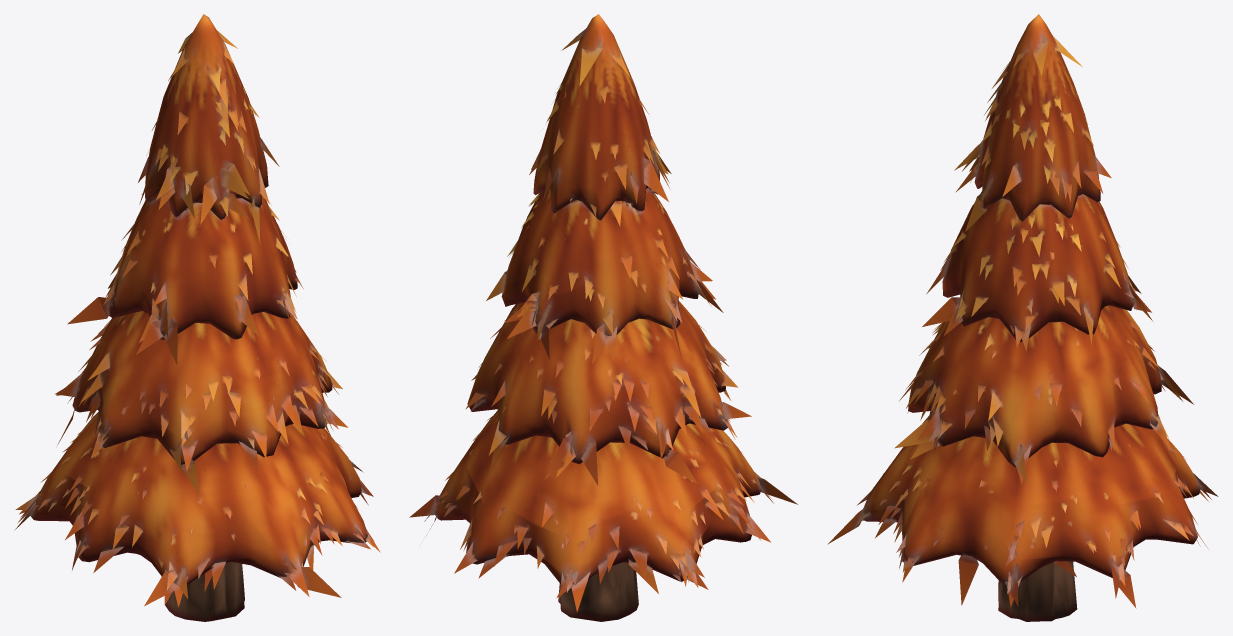
File: pine_a.glb
The picture shows the model from 3 angles, left to right: view 1: azimuth 30°, elevation 25°; view 2: azimuth 150°, elevation 25°; view 3: azimuth 270°, elevation 25°; orthographic projection.
Visible parts, largest first — view 1: pine_a; view 2: pine_a; view 3: pine_a.
Part boxes in pixels (x1=…): pine_a: x1=14, y1=14, x2=380, y2=621; pine_a: x1=409, y1=14, x2=797, y2=621; pine_a: x1=827, y1=14, x2=1218, y2=621.
Bounding box in the file's own units: 2.15 × 3.87 × 2.33.
1 material, 1 textured.
